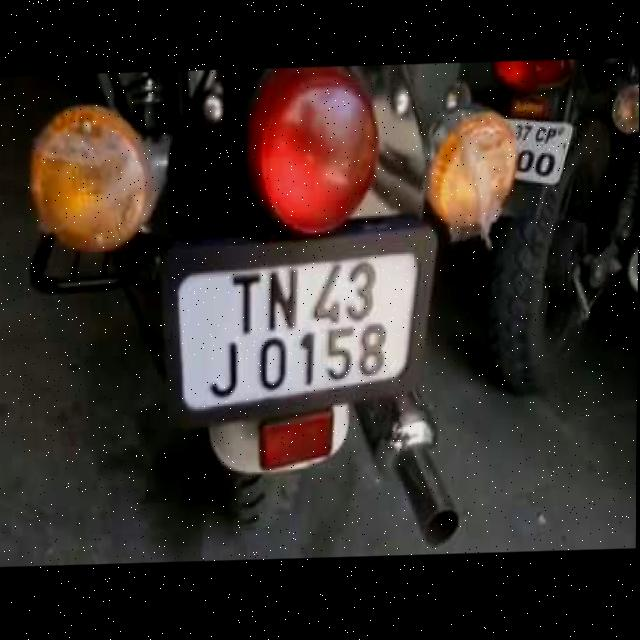plate: (168, 228, 427, 430), (506, 117, 576, 192)
